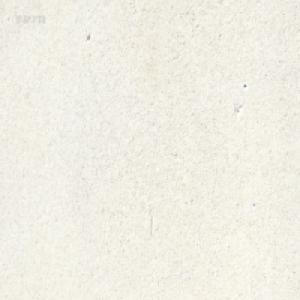Wrench: (156, 0, 163, 4)
